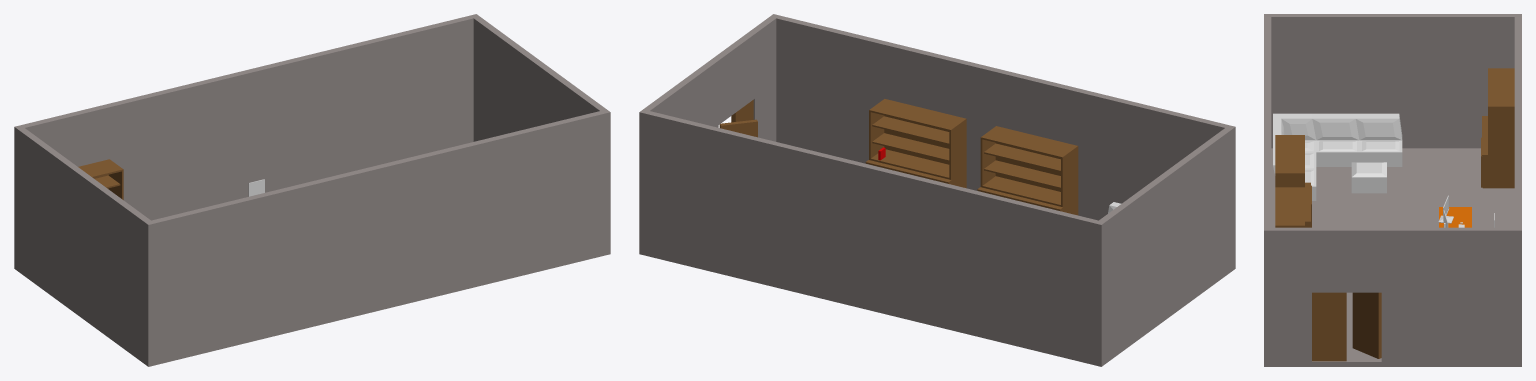
File: Blocked-out-level.fbx
The picture shows the model from 3 angles, left to right: view 1: azimuth 30°, elevation 25°; view 2: azimuth 150°, elevation 25°; view 3: azimuth 270°, elevation 25°; orthographic projection. The views are drawn at different scales.
Visible parts, largest first — view 1: Cube, Bookshelf.002; view 2: Cube, Bookshelf.001, Bookshelf, Cube.009, Cube.008; view 3: Cube, Sofa.001, Bookshelf.002, Cube.011, Bookshelf.001, Cube.012, Bookshelf, Cube.013, Cube.001.
Part boxes in pixels (box(x1,y1,x2,y2)): Cube: box(14, 14, 610, 366); Bookshelf.002: box(78, 159, 123, 199); Cube: box(639, 14, 1235, 366); Bookshelf.001: box(977, 126, 1078, 215); Bookshelf: box(865, 99, 966, 188); Cube.009: box(872, 116, 949, 161); Cube.008: box(984, 143, 1060, 188); Cube: box(1264, 14, 1521, 366); Sofa.001: box(1273, 113, 1402, 200); Bookshelf.002: box(1481, 68, 1514, 188); Cube.011: box(1312, 292, 1346, 361); Bookshelf.001: box(1275, 135, 1311, 227); Cube.012: box(1352, 292, 1381, 358); Bookshelf: box(1275, 187, 1304, 227); Cube.013: box(1351, 162, 1386, 193); Cube.001: box(1439, 207, 1471, 227).
Size of the model in its own units: 398 by 117 by 200.
